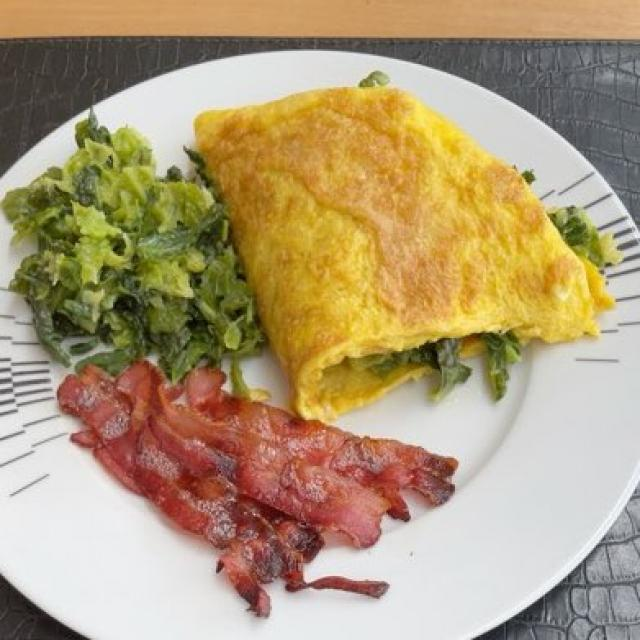bacon-frying: (66, 366, 463, 613)
egg: (199, 95, 599, 406)
